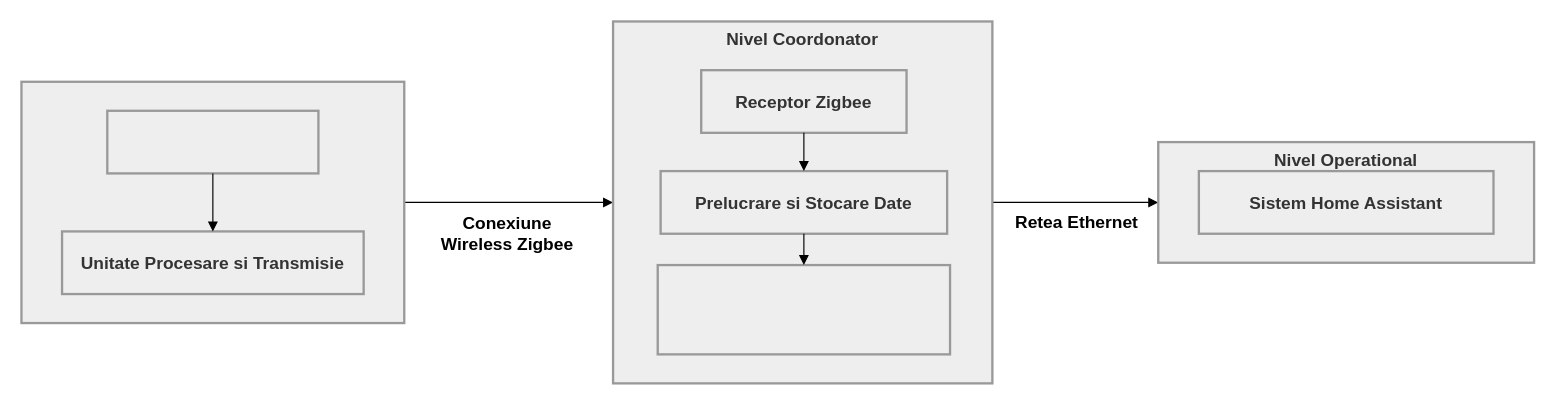
Some shapes in this 1554 by 404 pixel diagram are drawn without their labels. The shapes that lost their labels are listed below. From the top down, each one's box as (x1, y1, x2, y2) in pixels, then its label:
(106, 109, 319, 174): Senzori de Mediu
(20, 80, 405, 324): Nivel de Camp
(656, 263, 951, 355): Server Comunicatie
